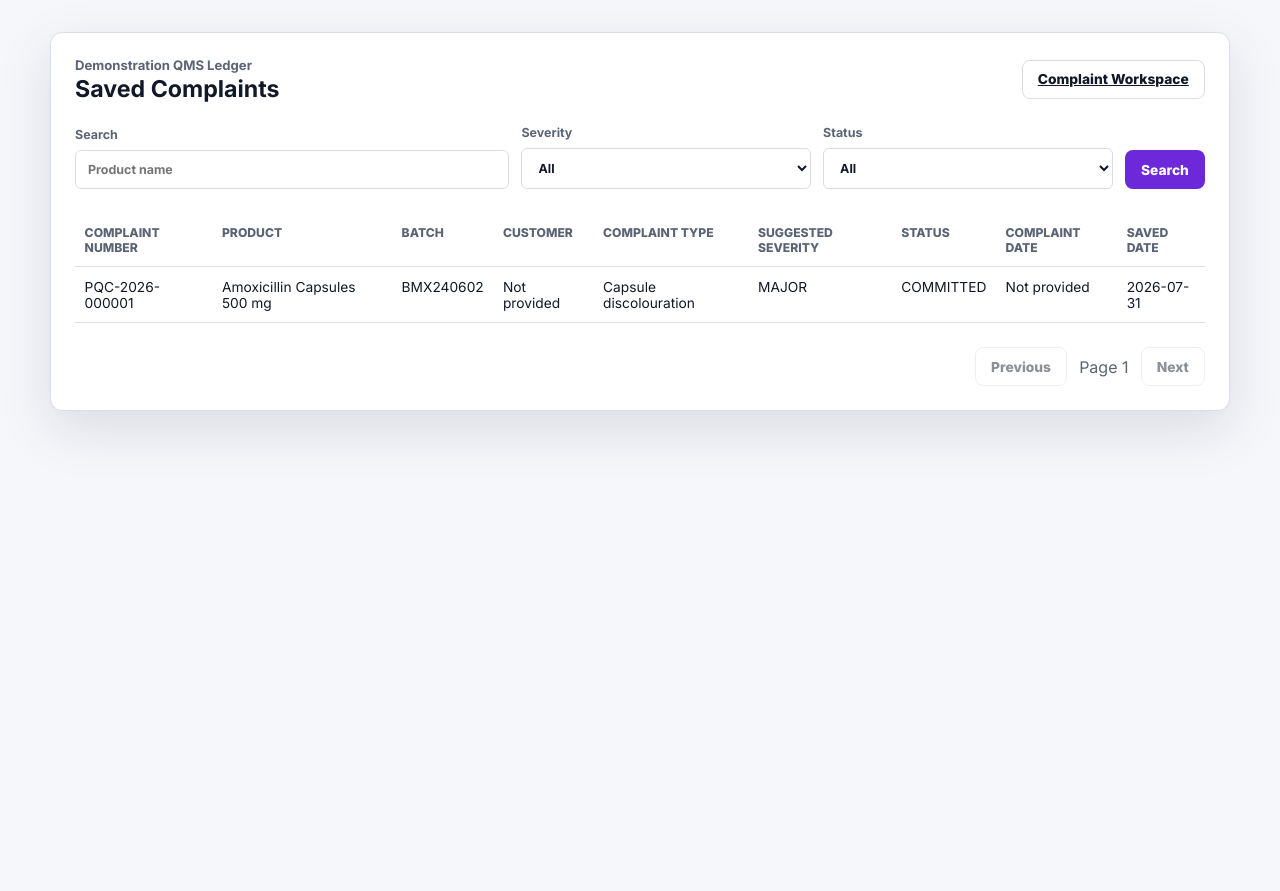
Test: App › workspace restores after ledger navigation without creating a new draft
The width and height of the screenshot is (1280, 891).
Click the link "Complaint Workspace": (1113, 79) x1=1022 y1=60 x2=1205 y2=99
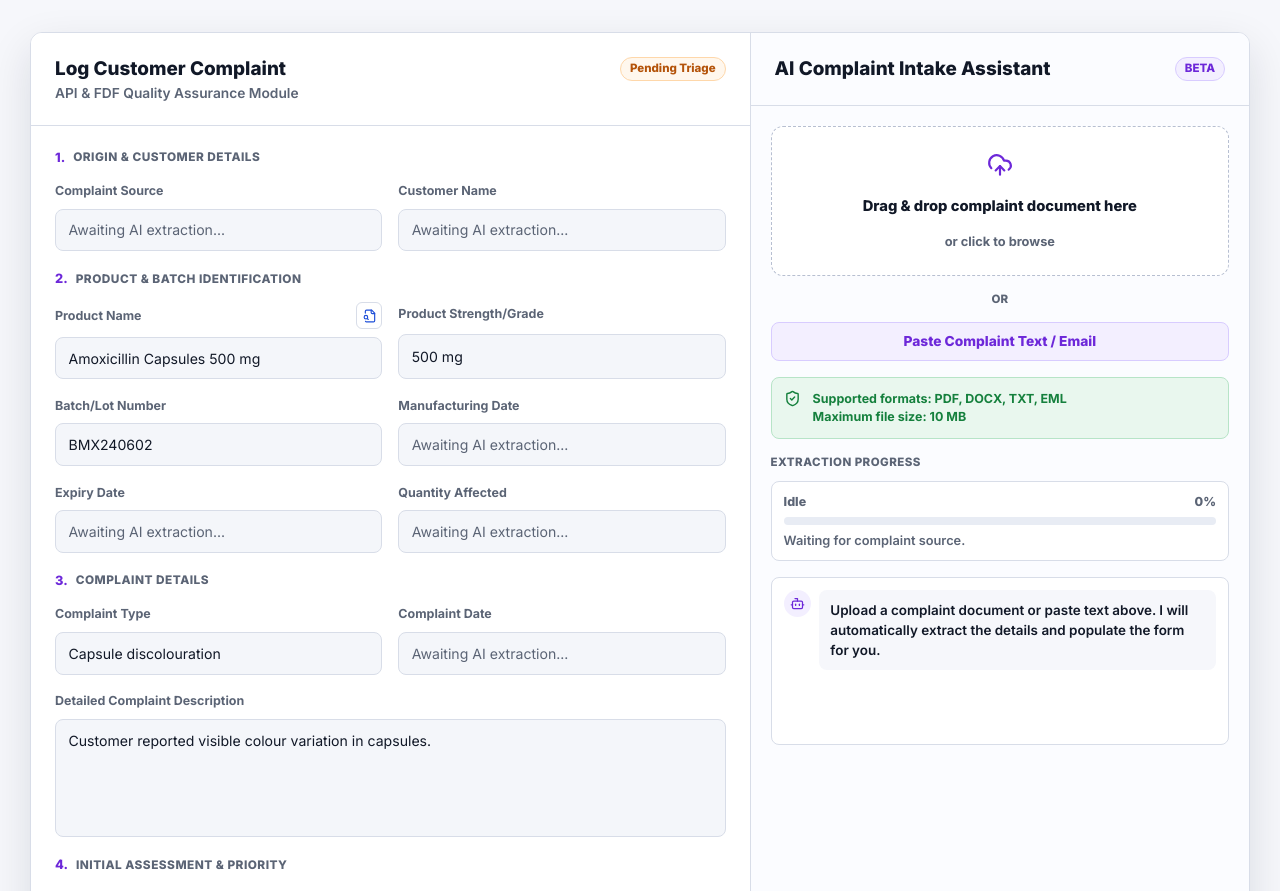
Now the field showing "Amoxicillin Capsules 500 mg" is shown, box x1=55 y1=337 x2=382 y2=380
